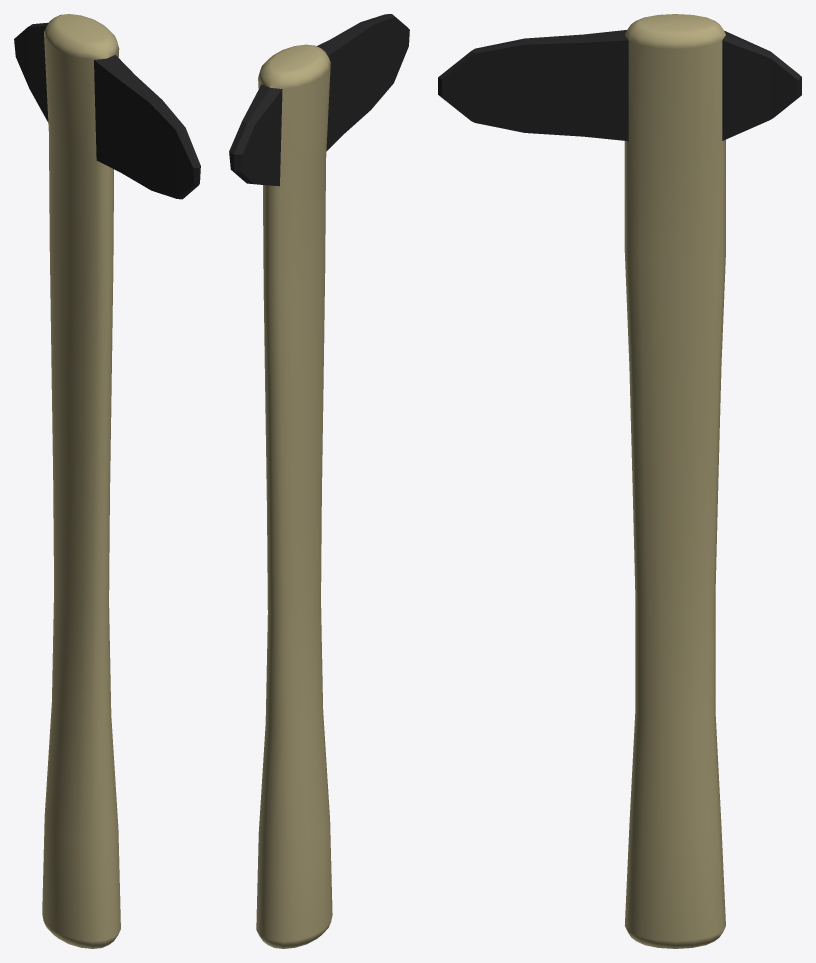
File: Big_Axe.fbx
3 renders of one model, left to right at view 1: azimuth 30°, elevation 25°; view 2: azimuth 150°, elevation 25°; view 3: azimuth 270°, elevation 25°, orthographic. The views are drawn at different scales.
Parts seen in each view (by area): view 1: pCylinder1; view 2: pCylinder1; view 3: pCylinder1.
Boxes of the visible parts, left/top/right/bottom form: pCylinder1: left=14, top=14, right=200, bottom=948; pCylinder1: left=229, top=14, right=409, bottom=948; pCylinder1: left=438, top=14, right=801, bottom=948.
Bounding box in the file's own units: 0.1416 × 2 × 0.7188.
